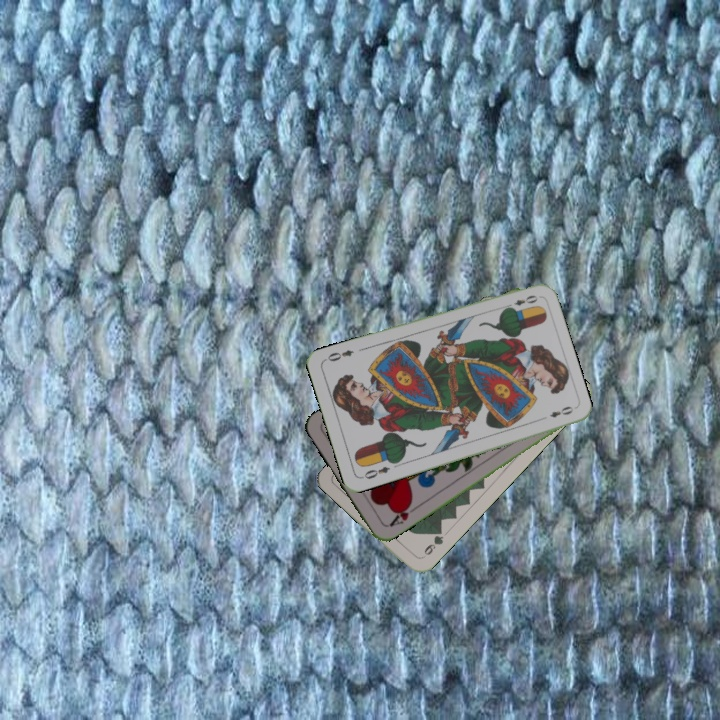EO: (501, 291, 540, 312), (357, 462, 392, 482)
G9: (417, 525, 447, 561)
HA: (385, 498, 420, 530)
